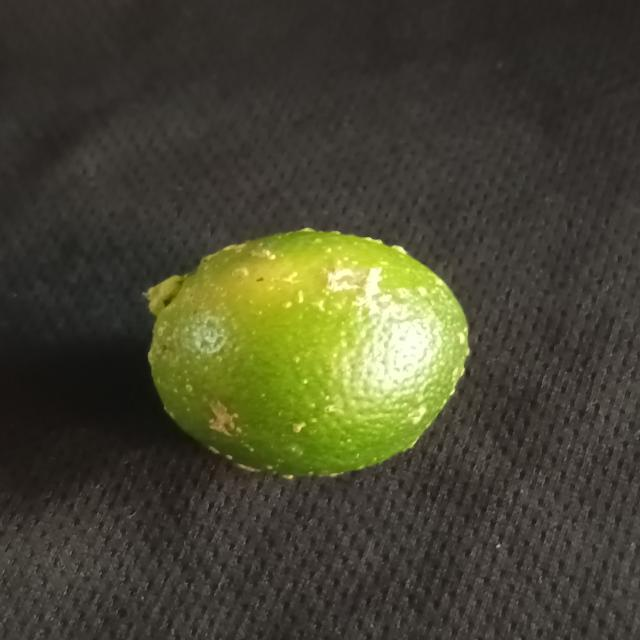scab: (140, 230, 477, 486)
